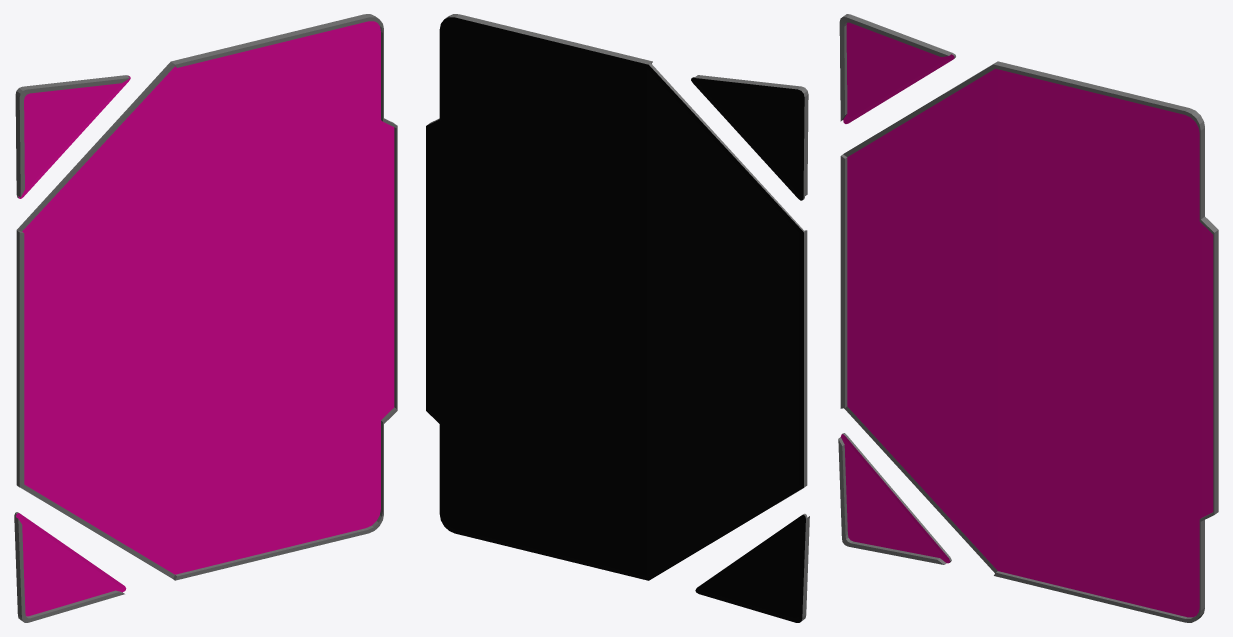
The model's file is Future_Frame.fbx.
The picture shows the model from 3 angles, left to right: view 1: azimuth 30°, elevation 25°; view 2: azimuth 150°, elevation 25°; view 3: azimuth 330°, elevation 25°; orthographic projection.
Parts seen in each view (by area): view 1: Future_Frame; view 2: Future_Frame; view 3: Future_Frame.
Boxes of the visible parts, x1,y1,x2,y2 form: Future_Frame: (14,14,397,622); Future_Frame: (426,14,809,622); Future_Frame: (838,14,1218,622).
Size of the model in its own units: 74.5 by 100 by 1.49.
